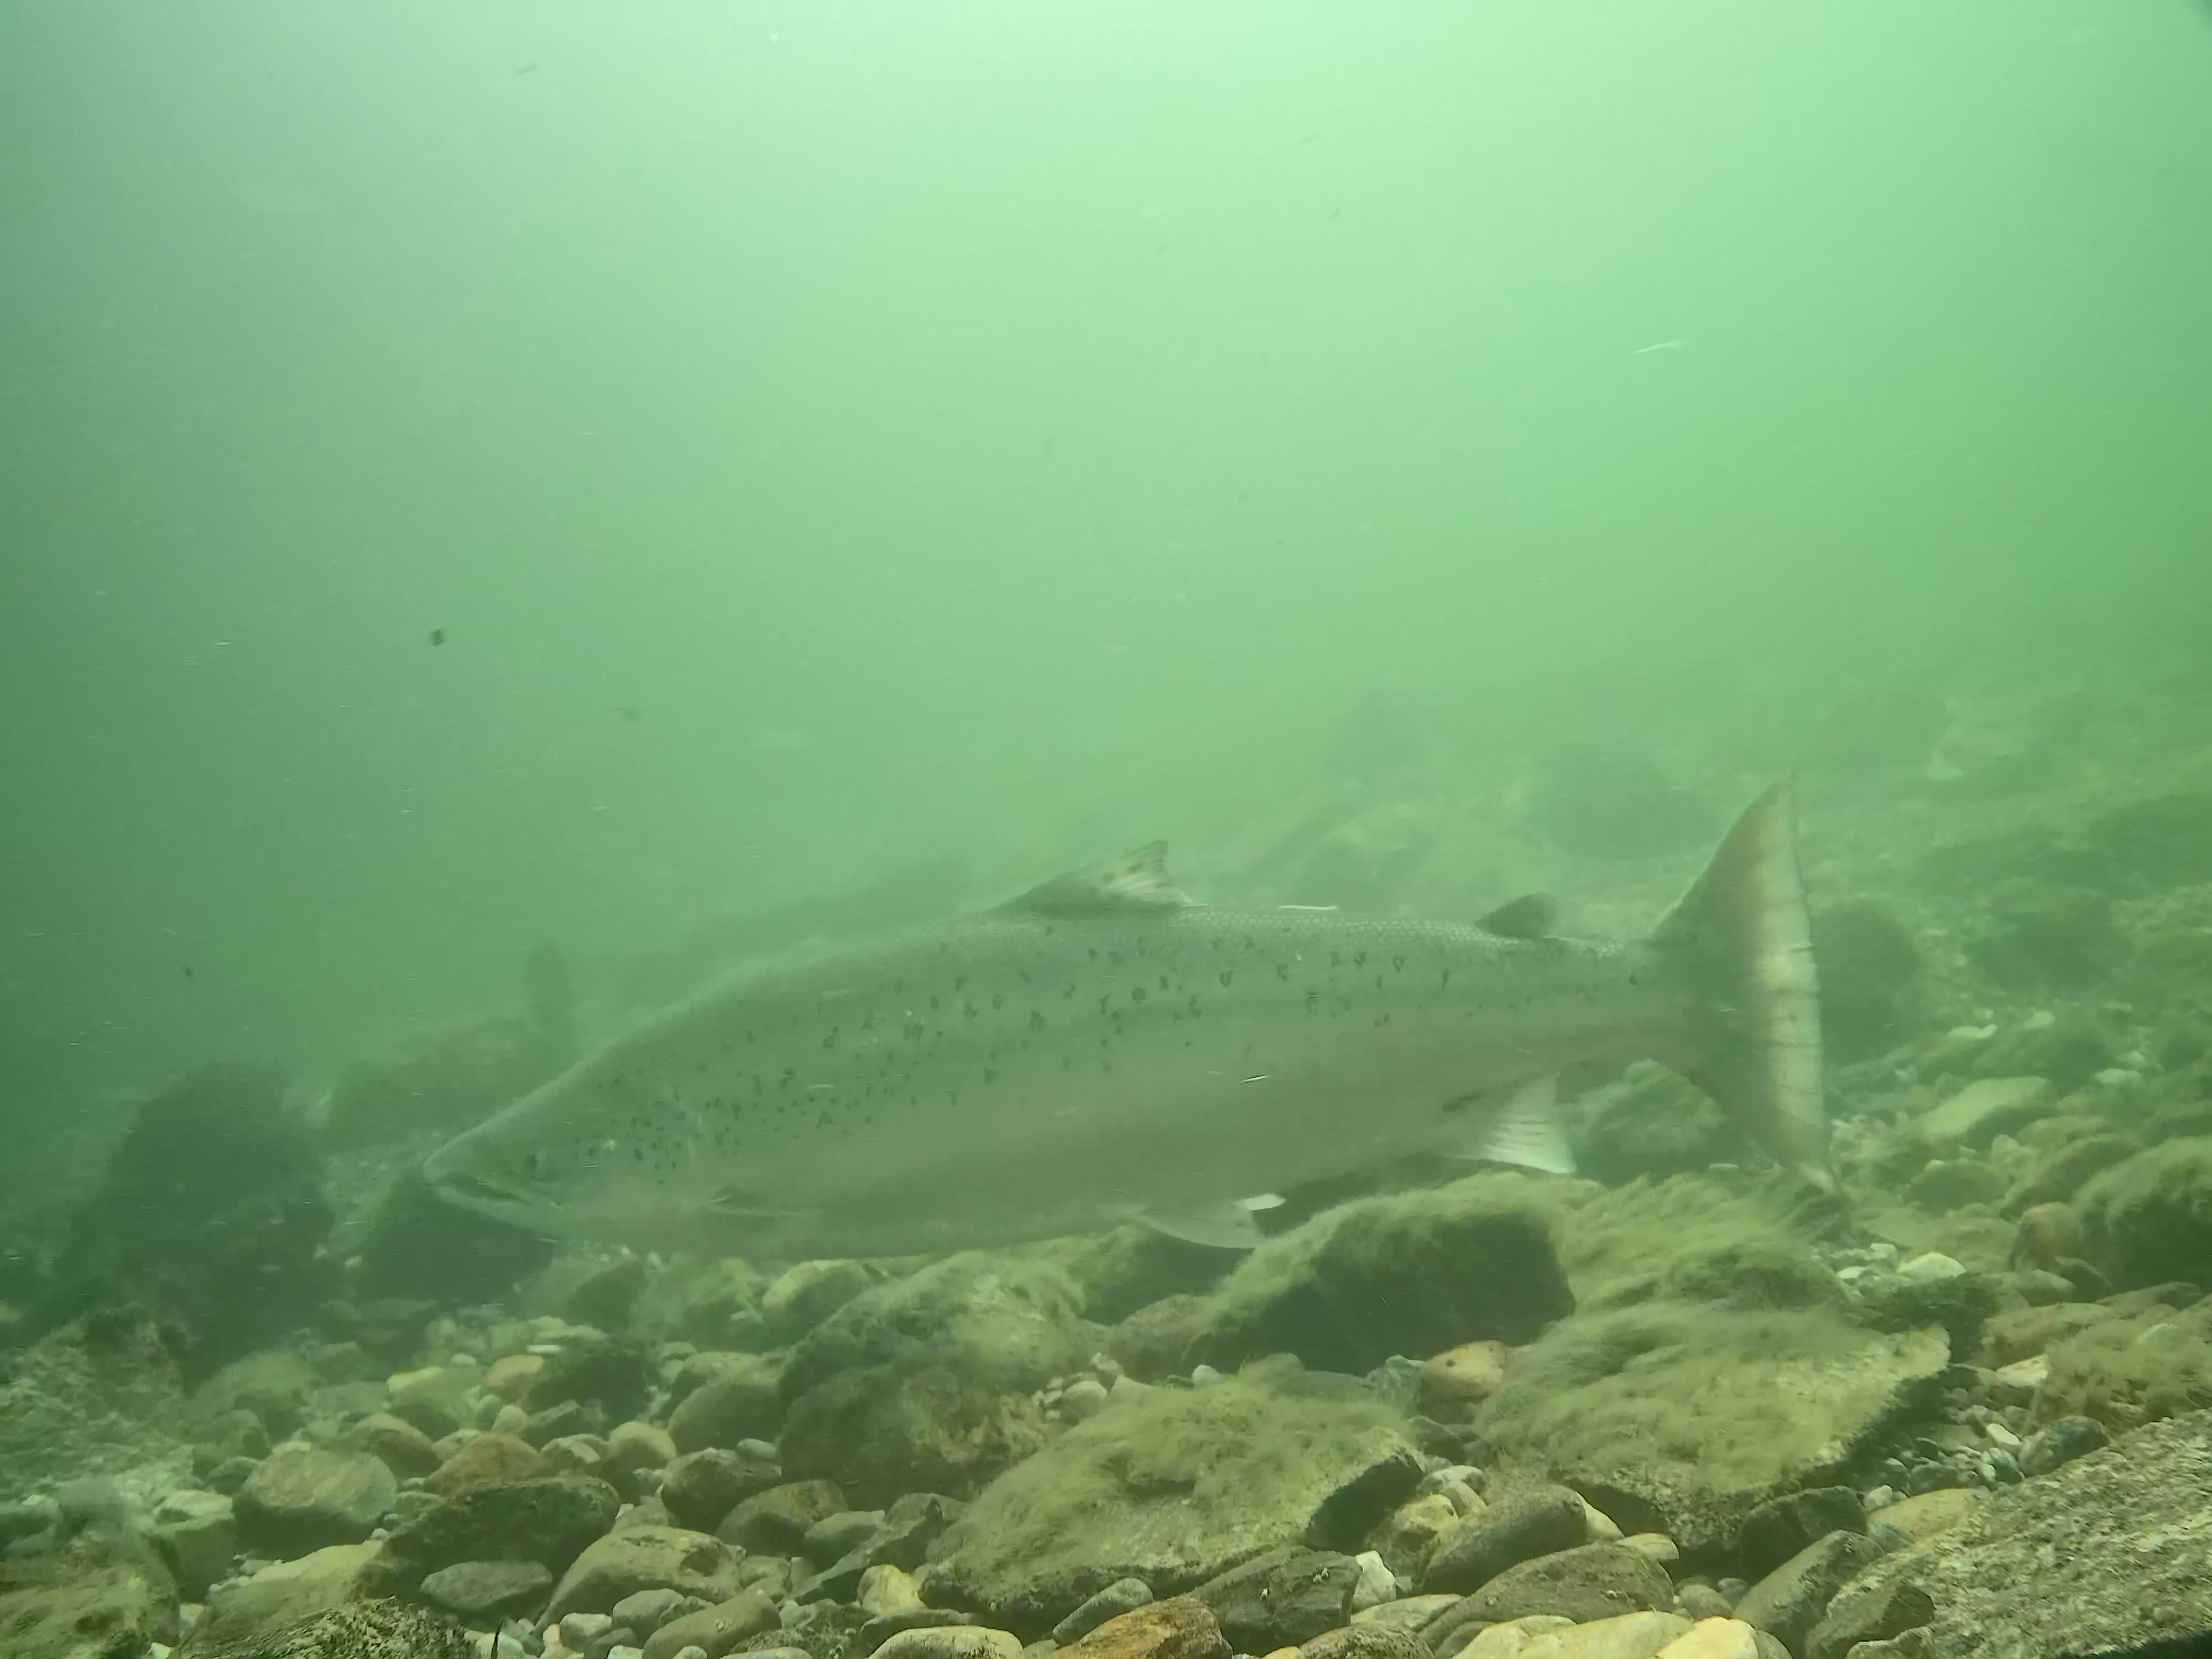salmon: (420, 767, 1846, 1267)
